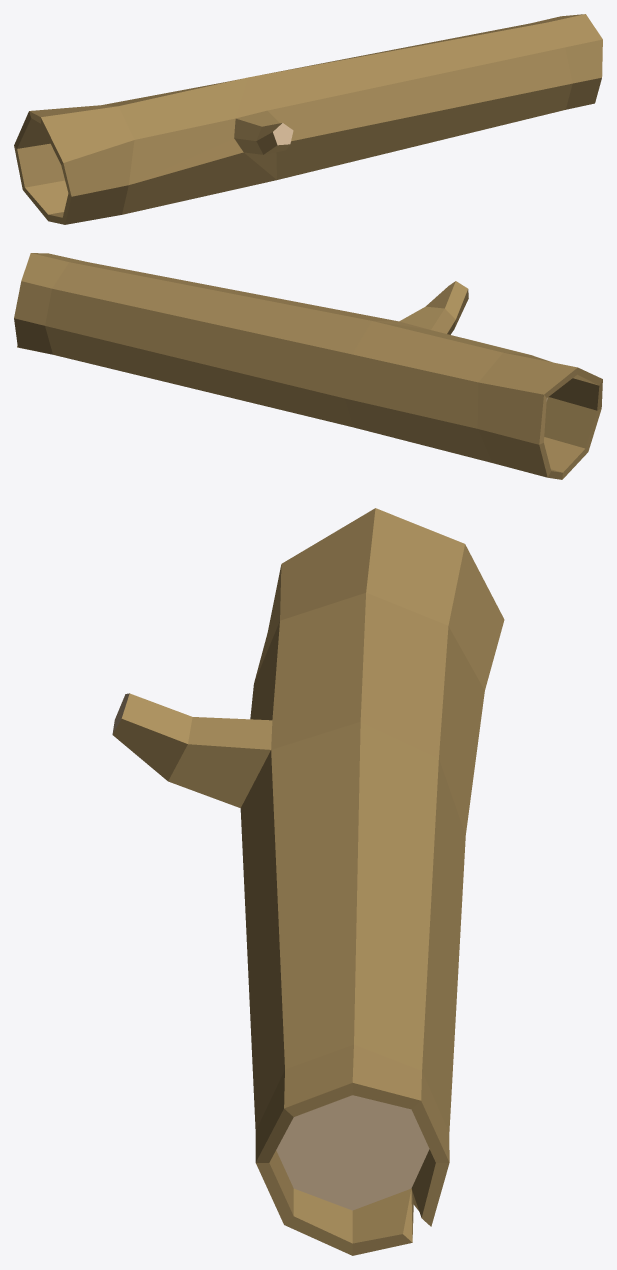
File: Oak_Log_08.fbx
3 views of the same model, one above another, from view 1: azimuth 30°, elevation 25°; view 2: azimuth 150°, elevation 25°; view 3: azimuth 270°, elevation 25° (orthographic). The views are drawn at different scales.
Visible parts, largest first — view 1: Oak_Log_08; view 2: Oak_Log_08; view 3: Oak_Log_08.
Part boxes in pixels (x1,y1,x2,y2): Oak_Log_08: [14, 14, 602, 224]; Oak_Log_08: [14, 253, 602, 479]; Oak_Log_08: [112, 508, 504, 1255].
Bounding box in the file's own units: 294 × 58.18 × 92.24.
